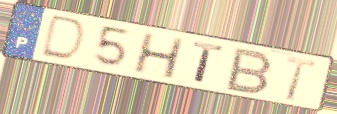5: (92, 24, 132, 70)
B: (222, 46, 275, 96)
D: (37, 13, 89, 64)
H: (130, 32, 187, 82)
T: (284, 54, 319, 103), (191, 40, 226, 86)
